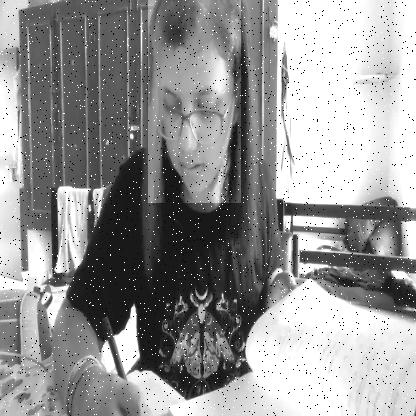Distracted: (148, 0, 241, 203)
